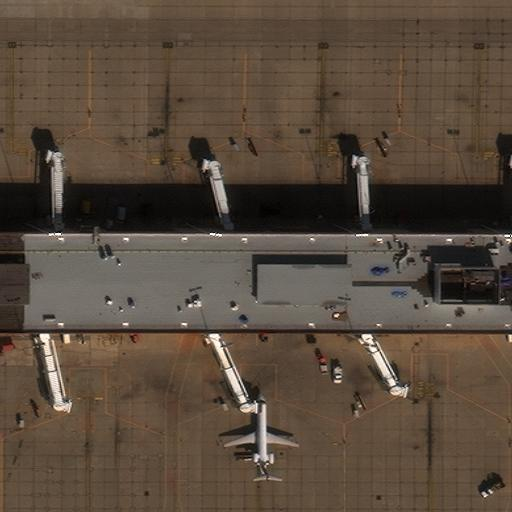Medium Civil Transport: (224, 396, 298, 480)
